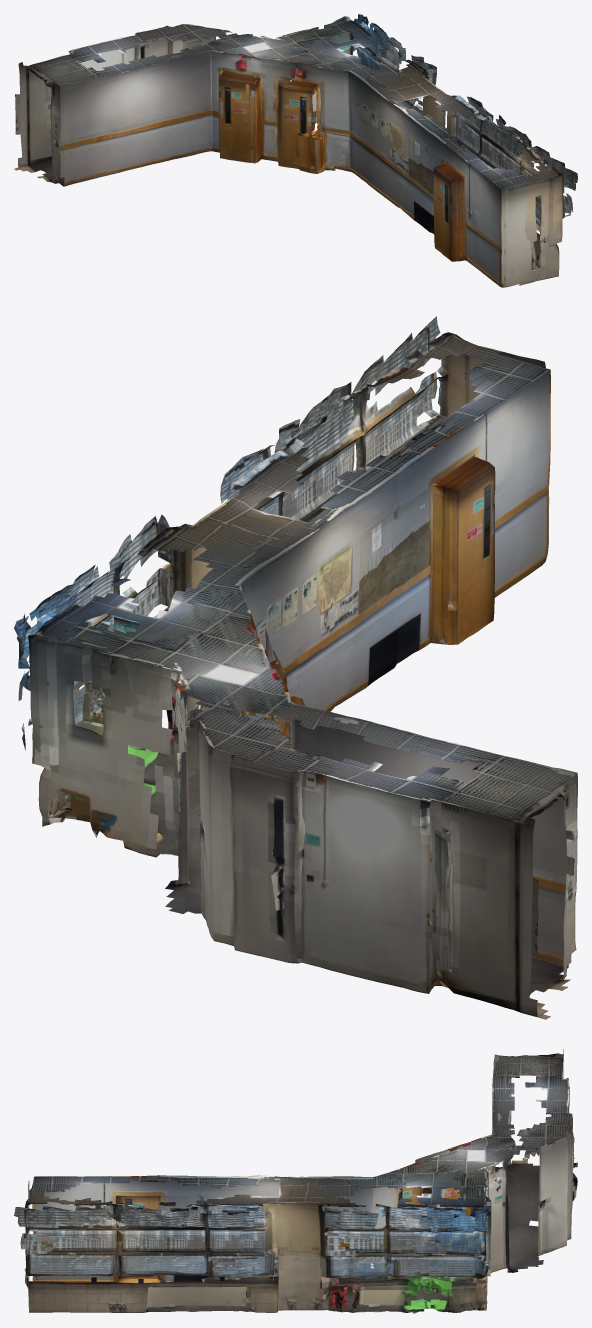
Rendered from M210_corridor-IM.fbx.
3 views of the same model, one above another, from view 1: azimuth 30°, elevation 25°; view 2: azimuth 150°, elevation 25°; view 3: azimuth 270°, elevation 25° (orthographic). The views are drawn at different scales.
Parts seen in each view (by area): view 1: M210_corridor-IM; view 2: M210_corridor-IM; view 3: M210_corridor-IM.
Boxes of the visible parts, <box> form: M210_corridor-IM: <box>14,14,577,287</box>; M210_corridor-IM: <box>14,316,577,1019</box>; M210_corridor-IM: <box>14,1049,577,1313</box>.
Bounding box in the file's own units: 796 × 260 × 1149.
1 material, 1 textured.
